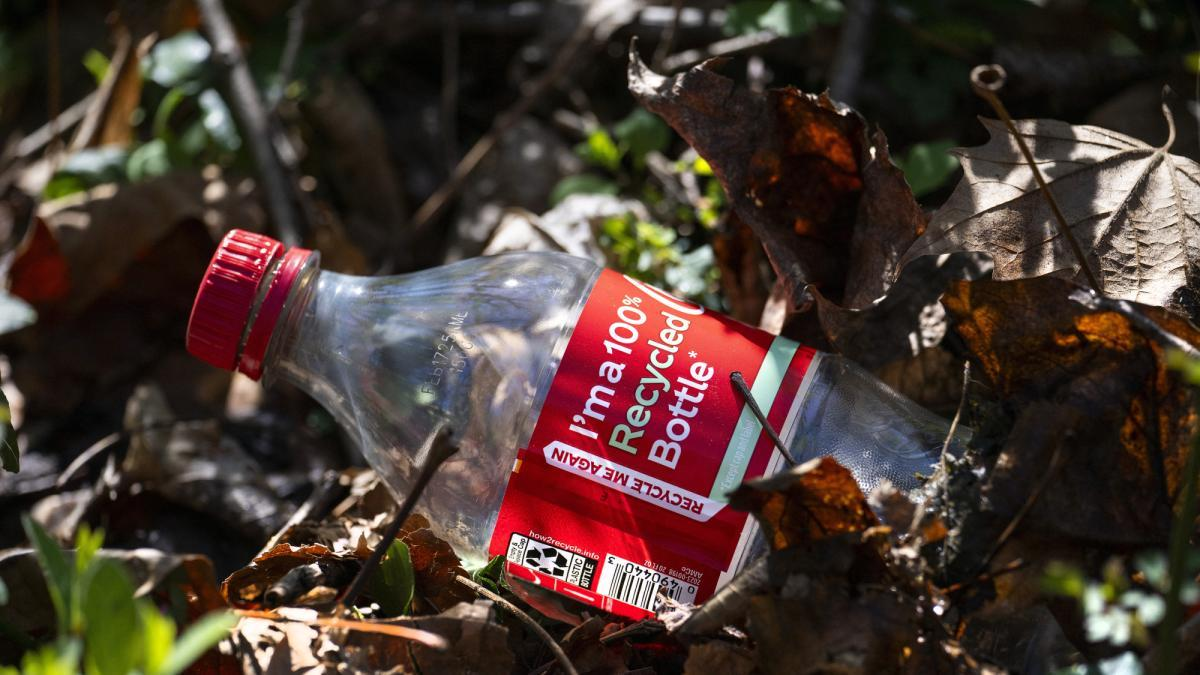paper: (142, 132, 958, 675)
